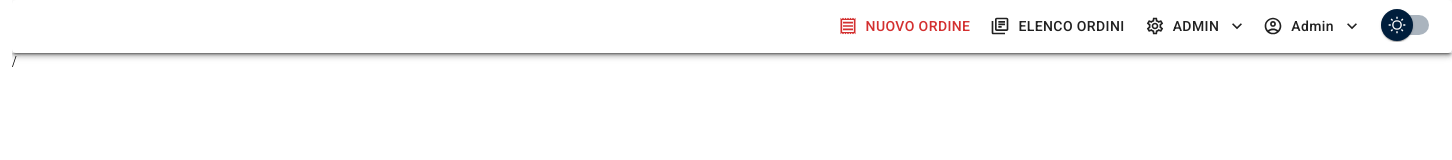
Test: Header › apre l'elenco ordini filtrando per la data odierna
Click the button "Elenco Ordini" at (1060, 26), box [986,8,1133,44]
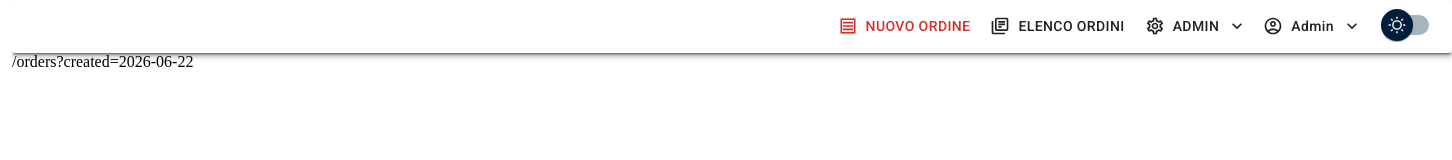
Now the text with test id "current-location" reads "/orders?created=2026-06-22", box [12,52,193,70]
